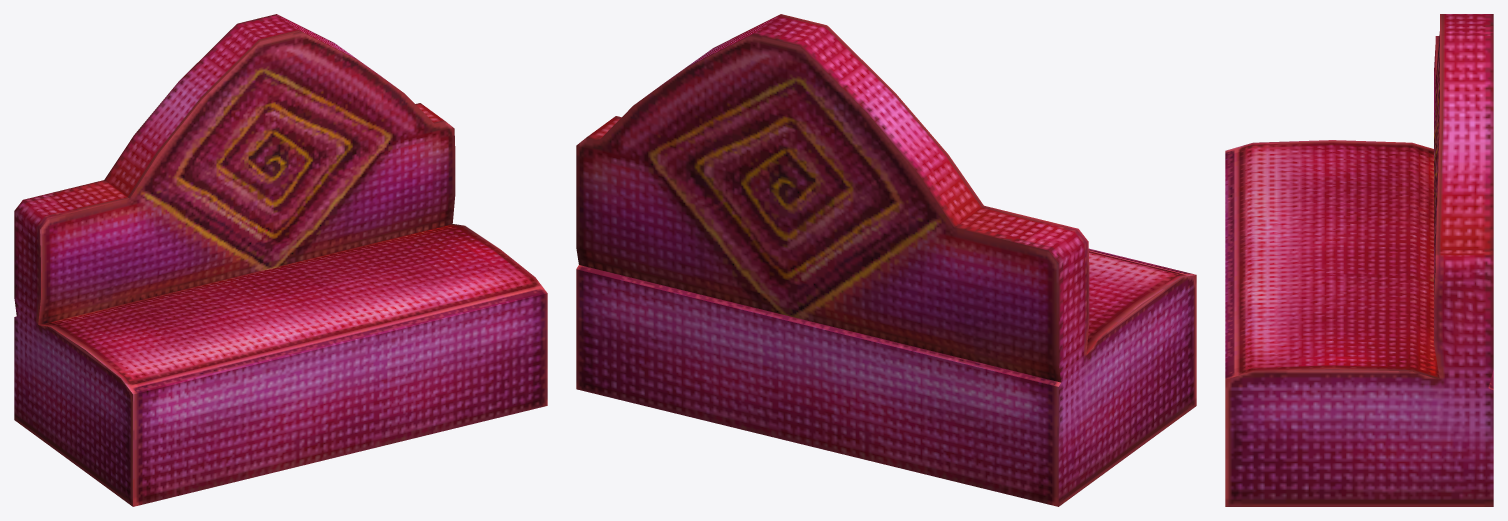
The model's file is furni_0200728.FBX.
3 views of the same model, side by side, from view 1: azimuth 30°, elevation 25°; view 2: azimuth 150°, elevation 25°; view 3: azimuth 270°, elevation 25° (orthographic). The views are drawn at different scales.
Visible parts, largest first — view 1: furni_0200728; view 2: furni_0200728; view 3: furni_0200728.
Boxes of the visible parts, x1,y1,x2,y2 form: furni_0200728: (14,14,547,506); furni_0200728: (576,14,1196,506); furni_0200728: (1225,14,1493,506).
Bounding box in the file's own units: 161 × 127 × 79.6.
1 material, 1 textured.
